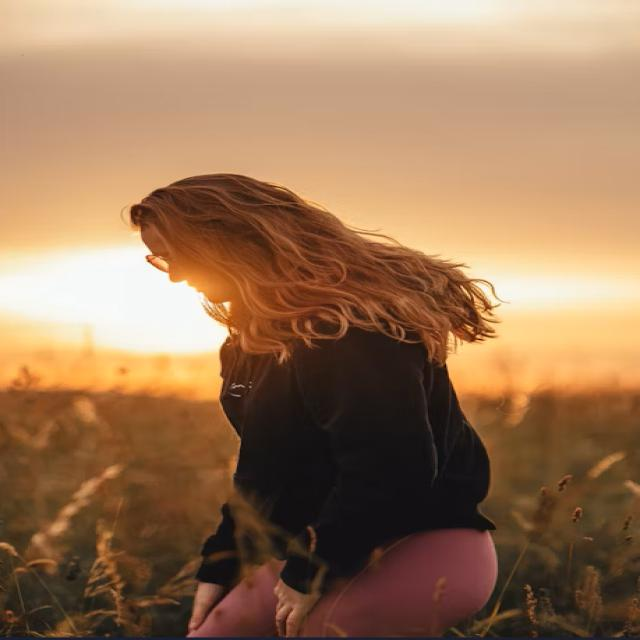Edited images: (67, 155, 566, 640)
